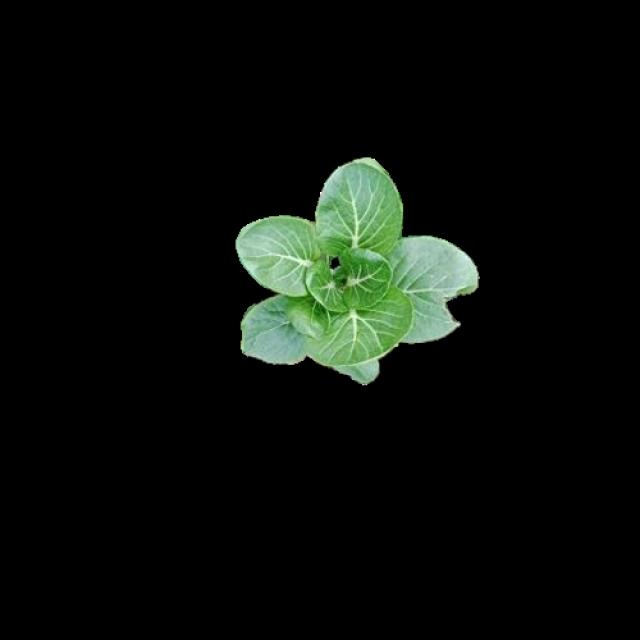not-mature: (237, 157, 479, 386)
unhealthy: (406, 236, 475, 343)
